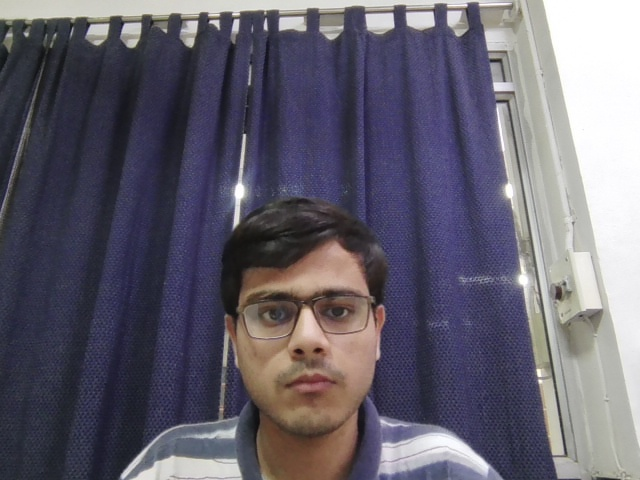face: (221, 200, 388, 437)
